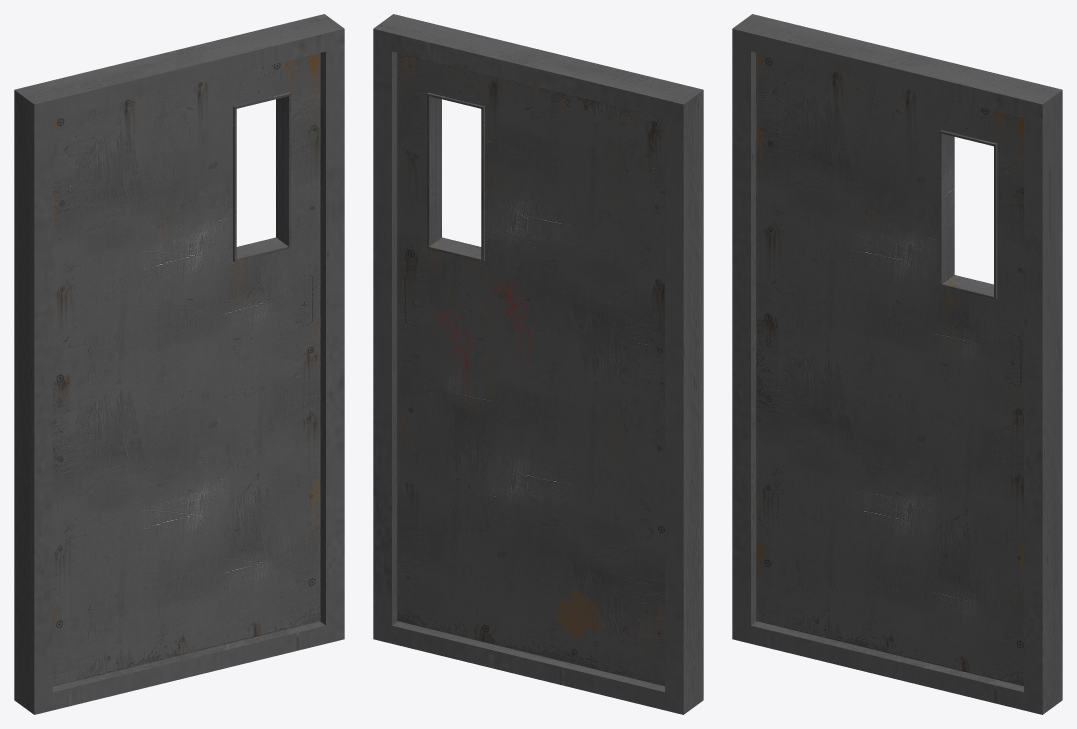
Rendered from metal_door_f.fbx.
3 views of the same model, side by side, from view 1: azimuth 30°, elevation 25°; view 2: azimuth 150°, elevation 25°; view 3: azimuth 330°, elevation 25° (orthographic).
Parts seen in each view (by area): view 1: door, doorframe; view 2: door, doorframe; view 3: door, doorframe.
Part boxes in pixels (x1=…): door: x1=53, y1=53, x2=320, y2=686; doorframe: x1=14, y1=14, x2=344, y2=714; door: x1=397, y1=53, x2=664, y2=686; doorframe: x1=373, y1=14, x2=703, y2=714; door: x1=756, y1=53, x2=1023, y2=686; doorframe: x1=732, y1=14, x2=1062, y2=714.
Size of the model in its own units: 227 by 426 by 25.53.
